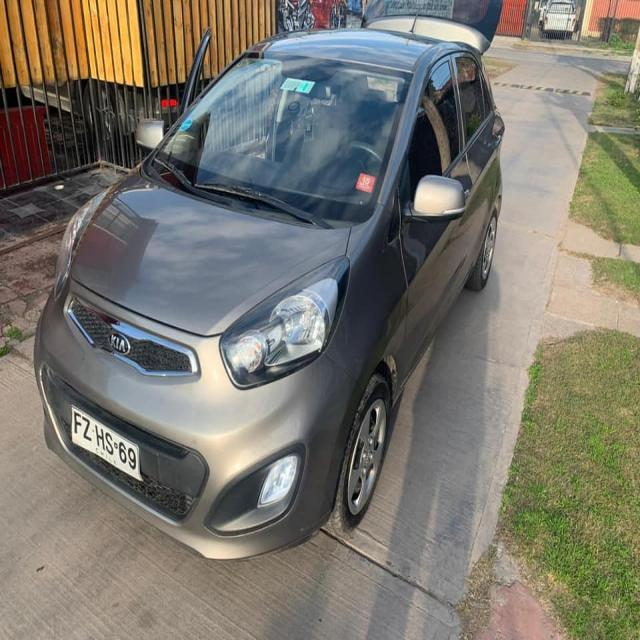patente: (69, 404, 143, 482)
